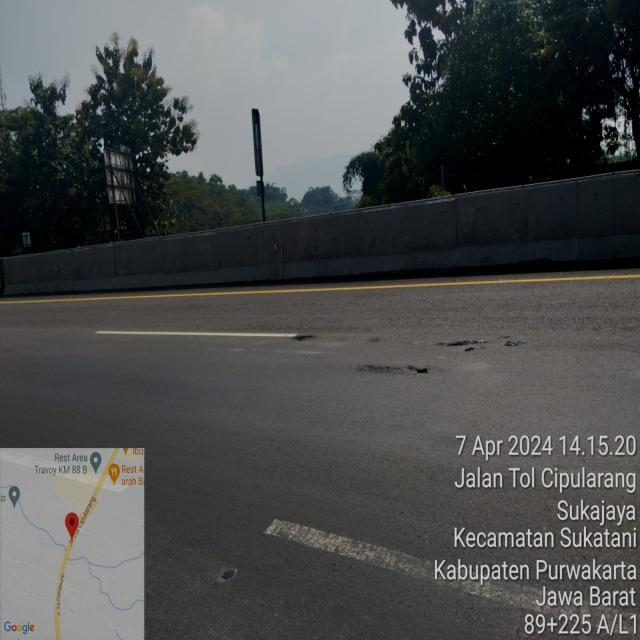Buraco: (355, 363, 432, 378), (431, 338, 492, 348), (502, 339, 530, 349), (291, 333, 316, 343), (461, 346, 478, 354)
